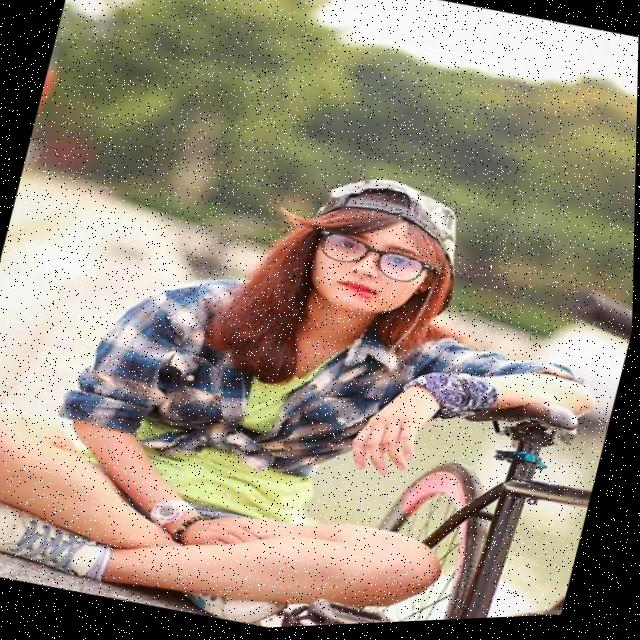illegal_helmet: (283, 154, 482, 343)
